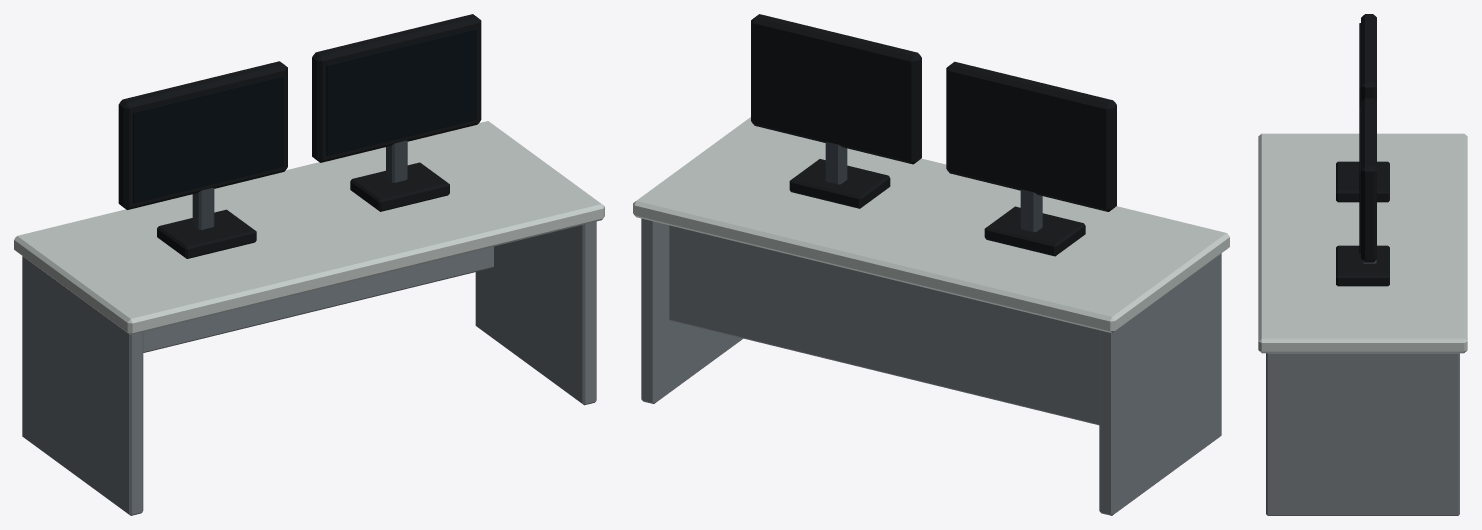
The model's file is DualMonitorDesk.fbx.
The picture shows the model from 3 angles, left to right: view 1: azimuth 30°, elevation 25°; view 2: azimuth 150°, elevation 25°; view 3: azimuth 270°, elevation 25°; orthographic projection. The views are drawn at different scales.
Visible parts, largest first — view 1: DualMonitorDesk; view 2: DualMonitorDesk; view 3: DualMonitorDesk.
Part boxes in pixels (box(x1,y1,x2,y2)): DualMonitorDesk: box(14, 14, 604, 515); DualMonitorDesk: box(633, 14, 1229, 515); DualMonitorDesk: box(1258, 14, 1467, 515).
Size of the model in its own units: 200 by 145 by 85.
1 material, 1 textured.
